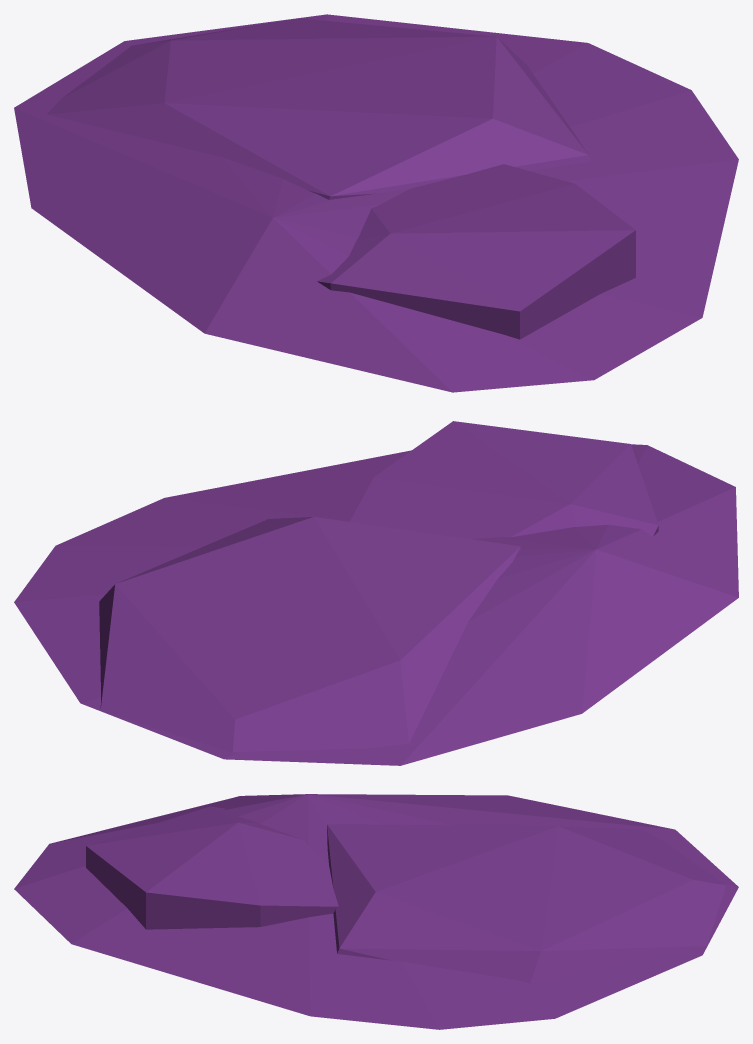
The model's file is Ground_01_Collider_01.FBX.
3 views of the same model, one above another, from view 1: azimuth 30°, elevation 25°; view 2: azimuth 150°, elevation 25°; view 3: azimuth 270°, elevation 25° (orthographic). The views are drawn at different scales.
Parts seen in each view (by area): view 1: COLLIDER_2, COLLIDER_1, COLLIDER_3; view 2: COLLIDER_2, COLLIDER_1, COLLIDER_3; view 3: COLLIDER_2, COLLIDER_1, COLLIDER_3.
Boxes of the visible parts, x1,y1,x2,y2 form: COLLIDER_2: (14, 14, 738, 392); COLLIDER_1: (47, 18, 591, 199); COLLIDER_3: (317, 164, 635, 339); COLLIDER_2: (14, 444, 738, 765); COLLIDER_1: (99, 517, 521, 752); COLLIDER_3: (350, 421, 658, 539); COLLIDER_2: (14, 794, 738, 1029); COLLIDER_1: (327, 824, 726, 983); COLLIDER_3: (86, 806, 338, 929).
Size of the model in its own units: 148 by 13.77 by 194.
